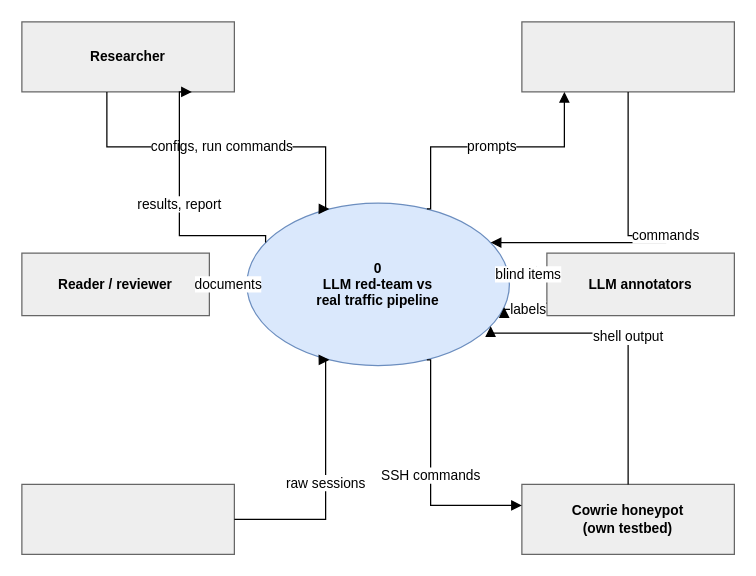
Image size: 756x576. Some labels were removed from this diagram. The shapes that lost their labels are listed below. From the top down, each one's centre as x and y in pixels, then its label:
[627,56]: LLM providers (AWS Bedrock)
[127,518]: CyberLab dataset (Zenodo)
